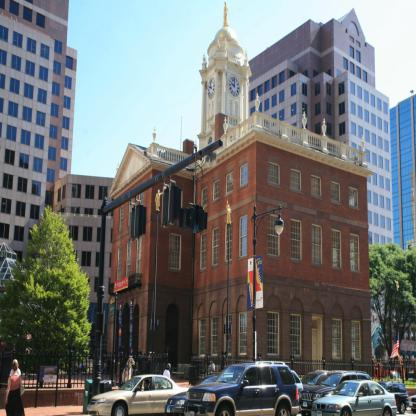Car: (86, 361, 416, 415)
